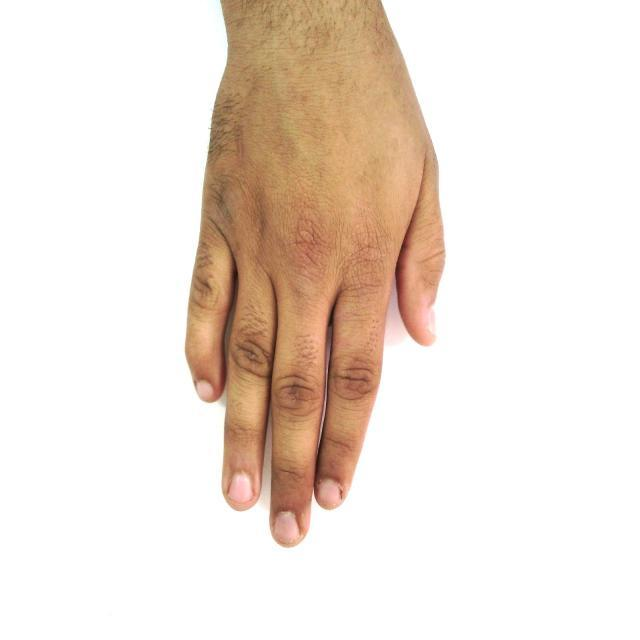Fingernail: (274, 512, 299, 544), (229, 473, 254, 502), (319, 480, 341, 507), (196, 381, 215, 401), (428, 306, 436, 335)
